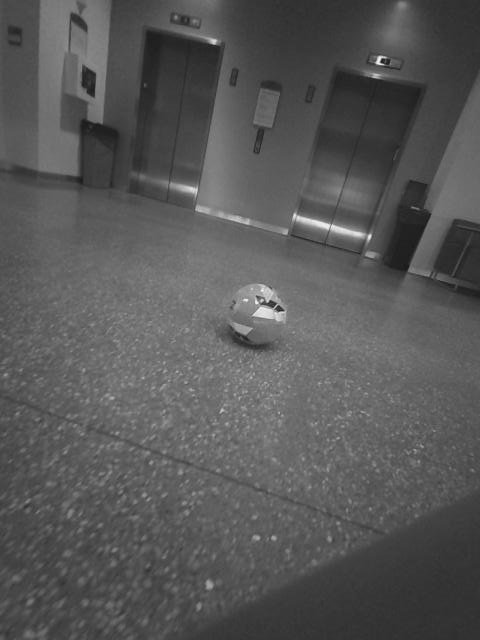ball: (218, 278, 293, 350)
